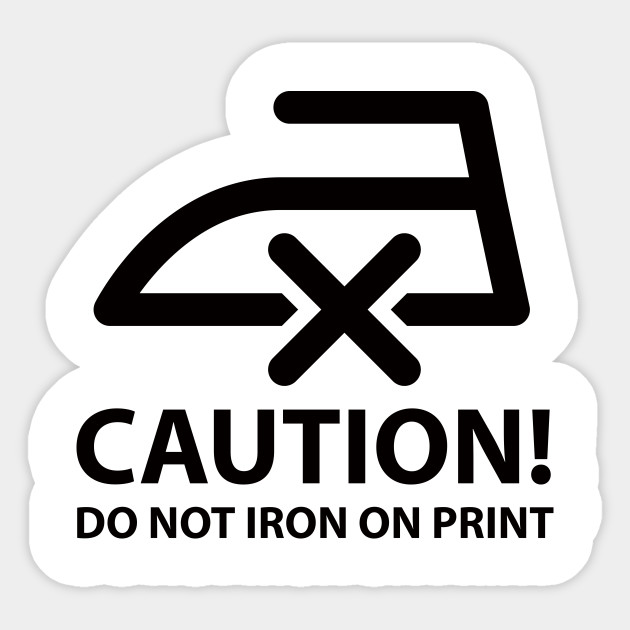do_not_iron: (86, 92, 530, 388)
